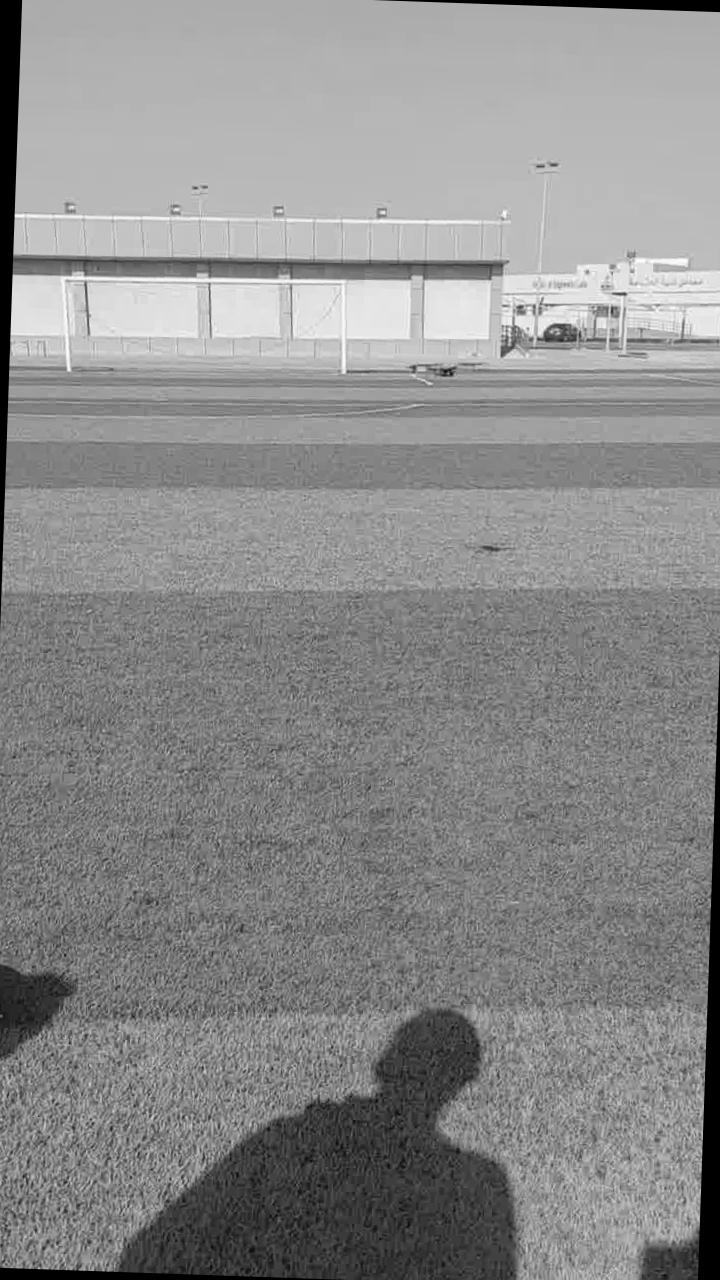drone: (393, 343, 482, 398)
